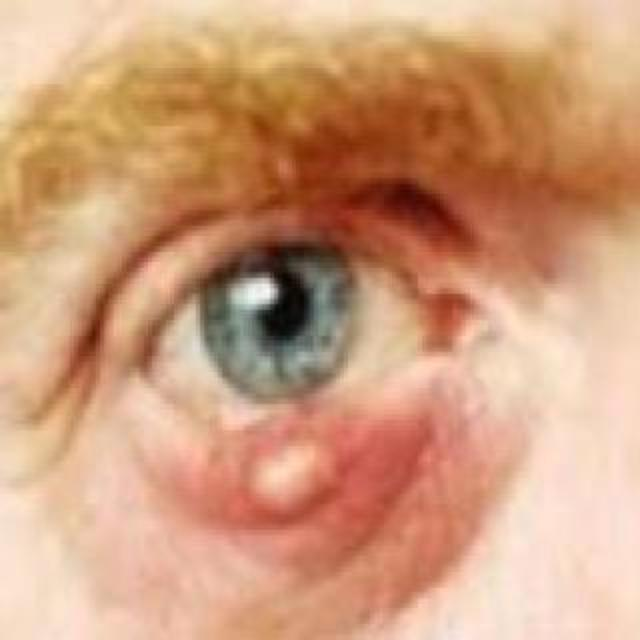Stye: (197, 367, 410, 570)
